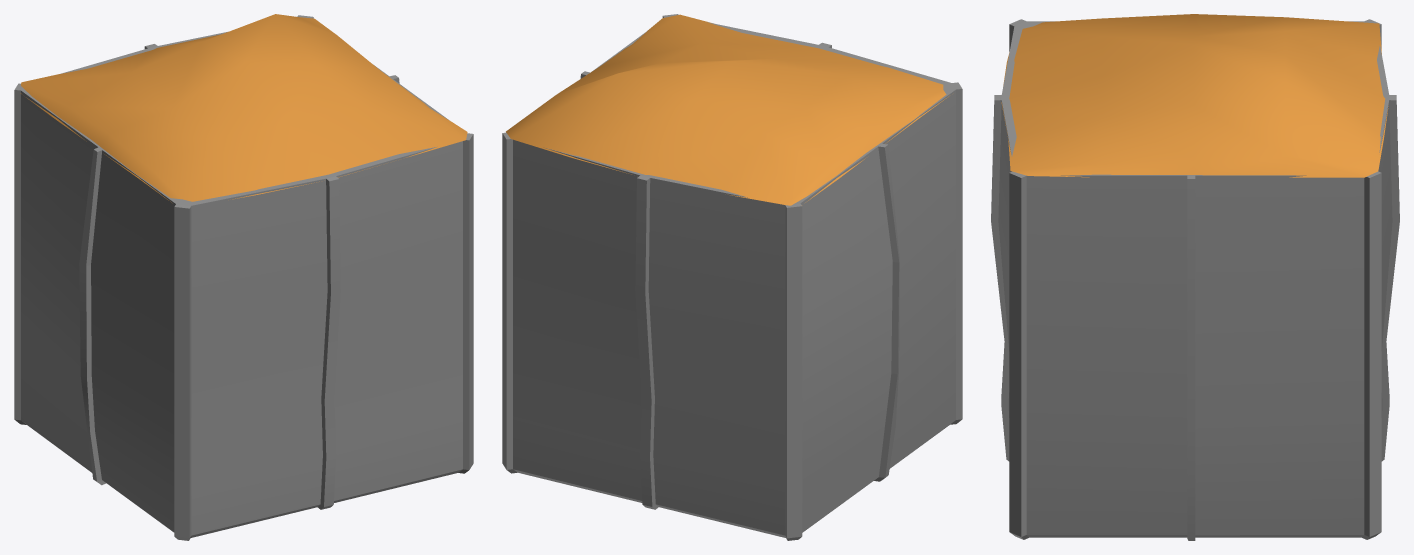
File: renfort-militaire.FBX
The picture shows the model from 3 angles, left to right: view 1: azimuth 30°, elevation 25°; view 2: azimuth 150°, elevation 25°; view 3: azimuth 270°, elevation 25°; orthographic projection. The views are drawn at different scales.
Parts seen in each view (by area): view 1: Box002, Plane001; view 2: Box002, Plane001; view 3: Box002, Plane001.
Boxes of the visible parts, x1=… form: Box002: x1=14, y1=15, x2=473, y2=540; Plane001: x1=20, y1=14, x2=467, y2=202; Box002: x1=502, y1=14, x2=962, y2=540; Plane001: x1=506, y1=14, x2=948, y2=205; Box002: x1=991, y1=19, x2=1399, y2=540; Plane001: x1=1001, y1=14, x2=1388, y2=177.
Size of the model in its own units: 1.69 by 1.9 by 1.68.
